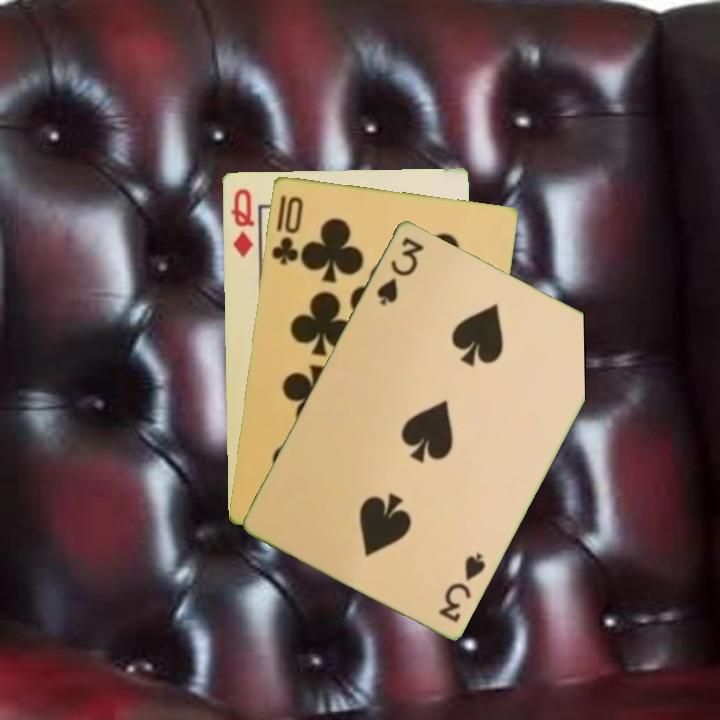10c: (267, 192, 306, 267)
3s: (435, 549, 489, 625), (373, 233, 427, 308)
Qd: (227, 185, 256, 260)
